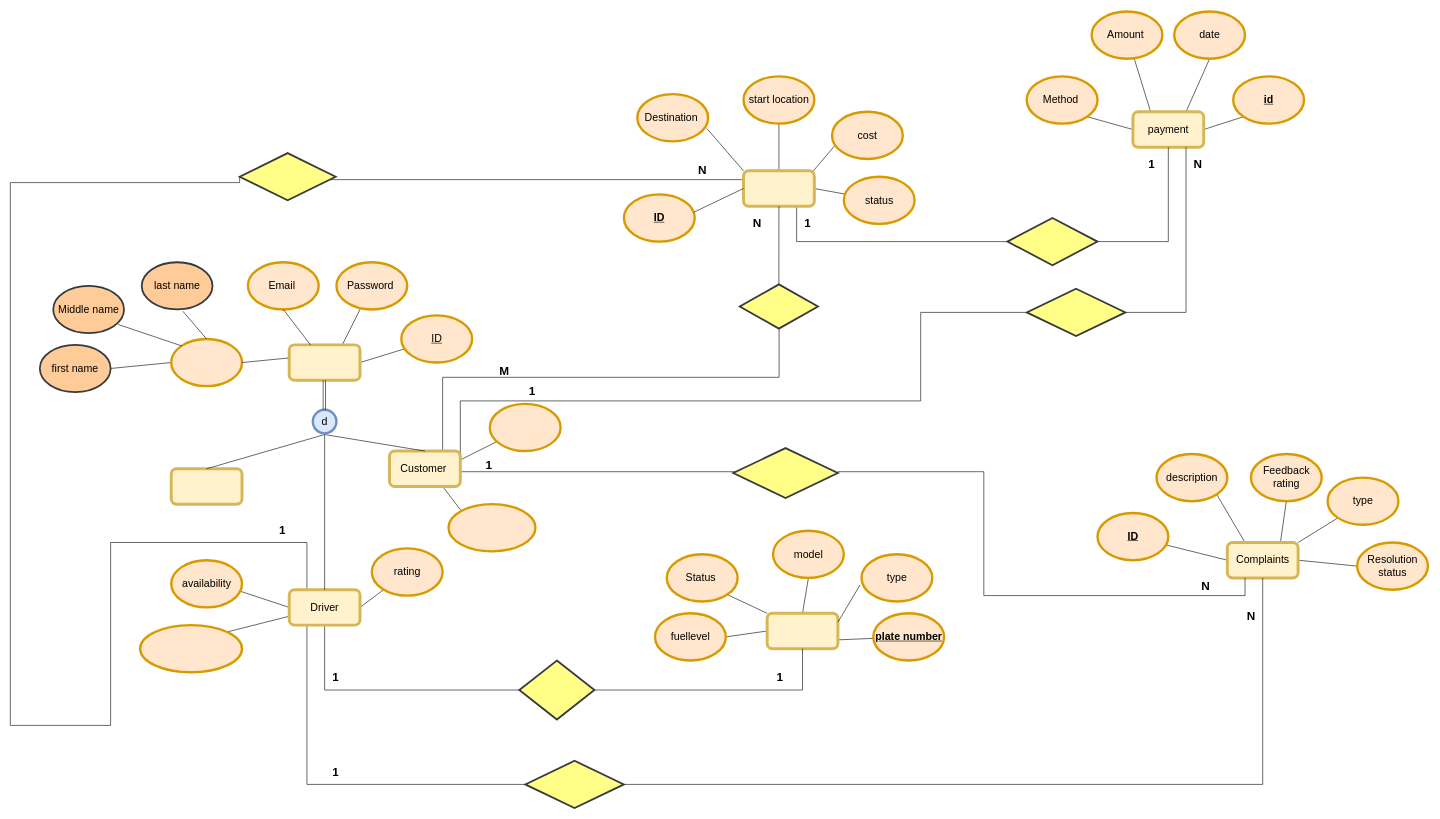
The diagram is 1440 pixels wide and 819 high, and some of its shapes have lost their labels. The box of each missing label's shape, as (x1, y1, x2, y2) in pixels:
Car: (765, 612, 839, 650)
Drives: (238, 152, 336, 201)
HasComplaint: (524, 760, 625, 809)
HasPayment: (1006, 217, 1098, 266)
license_number: (139, 624, 243, 673)
Manager: (169, 467, 243, 505)
name: (170, 337, 243, 387)
Pays: (1026, 288, 1126, 337)
Relationship: (518, 659, 595, 720)
reward_points: (447, 503, 536, 552)
Ride: (742, 169, 815, 207)
Submits: (732, 447, 838, 499)
Takes: (739, 283, 819, 329)
User: (287, 343, 361, 381)
user_id: (488, 402, 562, 452)
